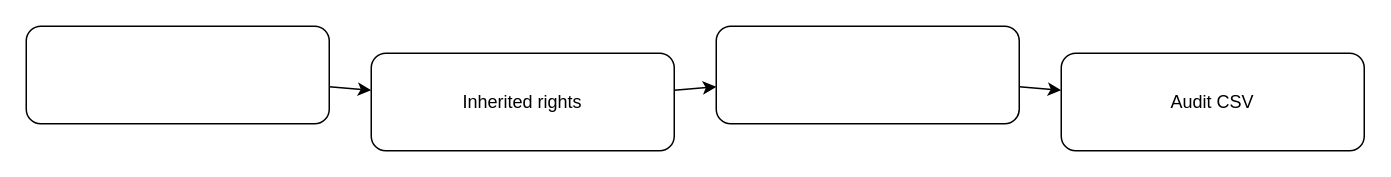
Image size: 1391x177. Some labels were removed from this diagram. The shapes that lost their labels are listed below. From the top down, each one's centre as x and y in pixels, then its label:
At point 177,74: "Folder ACL".
At point 867,74: "Secret access".
